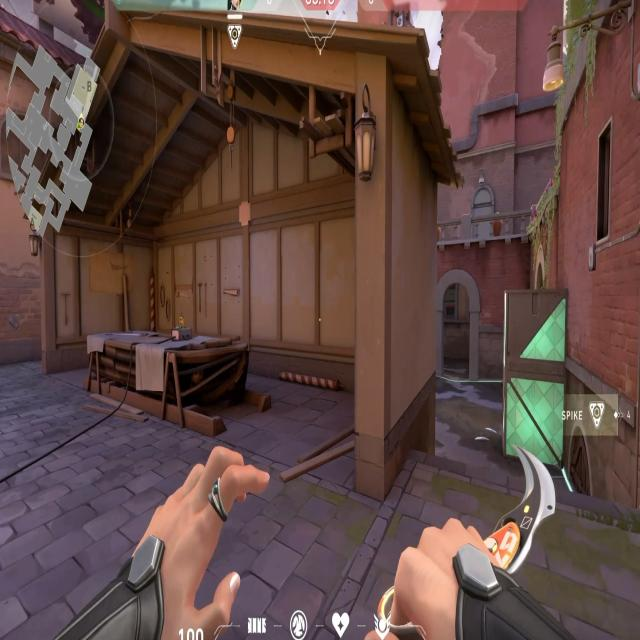B_Garage_Left: (30, 223, 210, 442)
